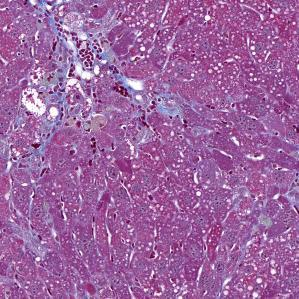fibrosis: (36, 39, 127, 115)
